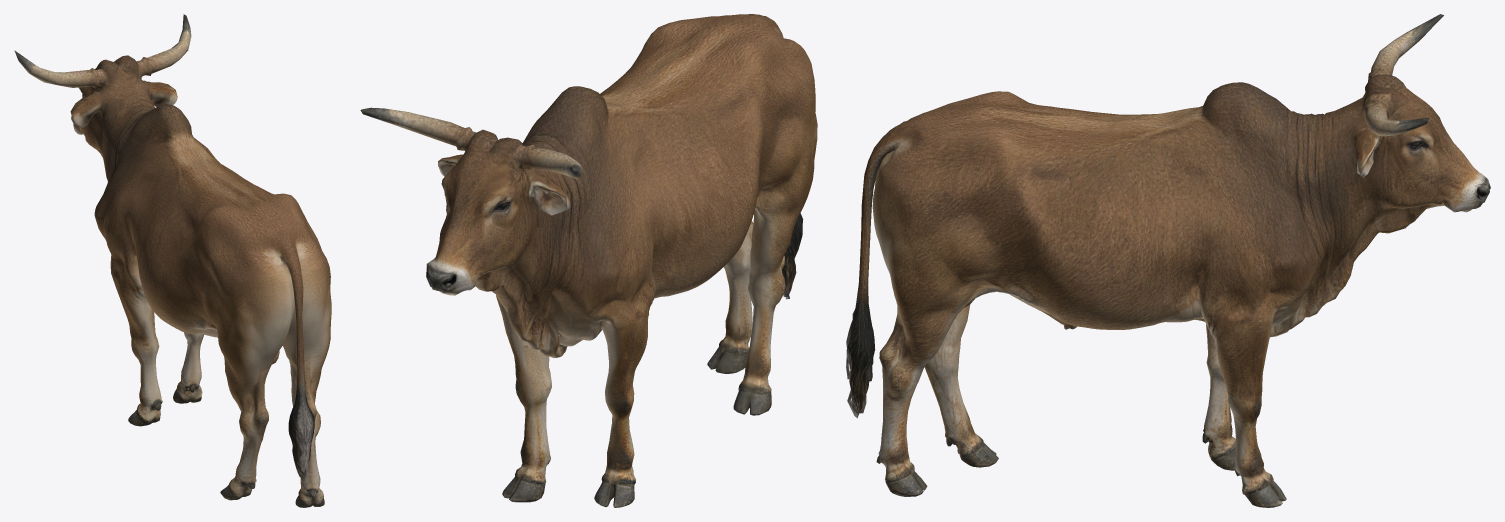
The picture shows the model from 3 angles, left to right: view 1: azimuth 30°, elevation 25°; view 2: azimuth 150°, elevation 25°; view 3: azimuth 270°, elevation 25°; orthographic projection. The views are drawn at different scales.
Visible parts, largest first — view 1: tripo_node_62f61932-7988-44d3-80e4-ae4608b27b21; view 2: tripo_node_62f61932-7988-44d3-80e4-ae4608b27b21; view 3: tripo_node_62f61932-7988-44d3-80e4-ae4608b27b21.
Part boxes in pixels (x1,y1,x2,y2): tripo_node_62f61932-7988-44d3-80e4-ae4608b27b21: [14, 14, 331, 507]; tripo_node_62f61932-7988-44d3-80e4-ae4608b27b21: [360, 14, 817, 507]; tripo_node_62f61932-7988-44d3-80e4-ae4608b27b21: [846, 14, 1490, 507].
Size of the model in its own units: 0.3785 by 0.7041 by 0.9799.
1 material, 1 textured.
